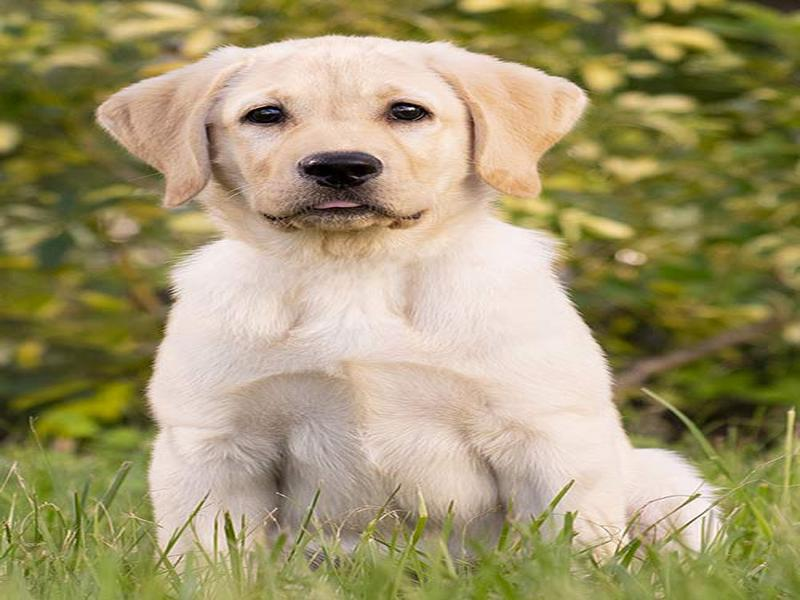dog: (93, 33, 728, 585)
